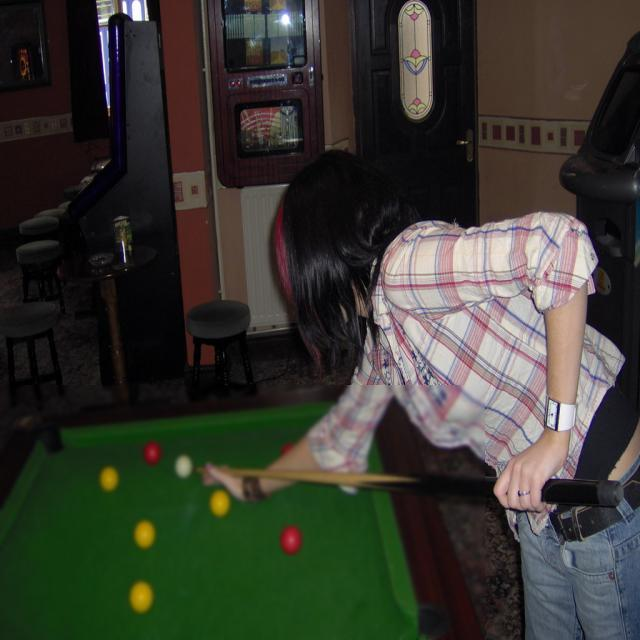Ball: (130, 584, 153, 612), (281, 527, 302, 555), (138, 522, 154, 550), (212, 491, 228, 515), (101, 470, 117, 492), (174, 458, 192, 476), (144, 446, 160, 466), (282, 444, 294, 456)
Billiard table: (0, 386, 485, 640)
